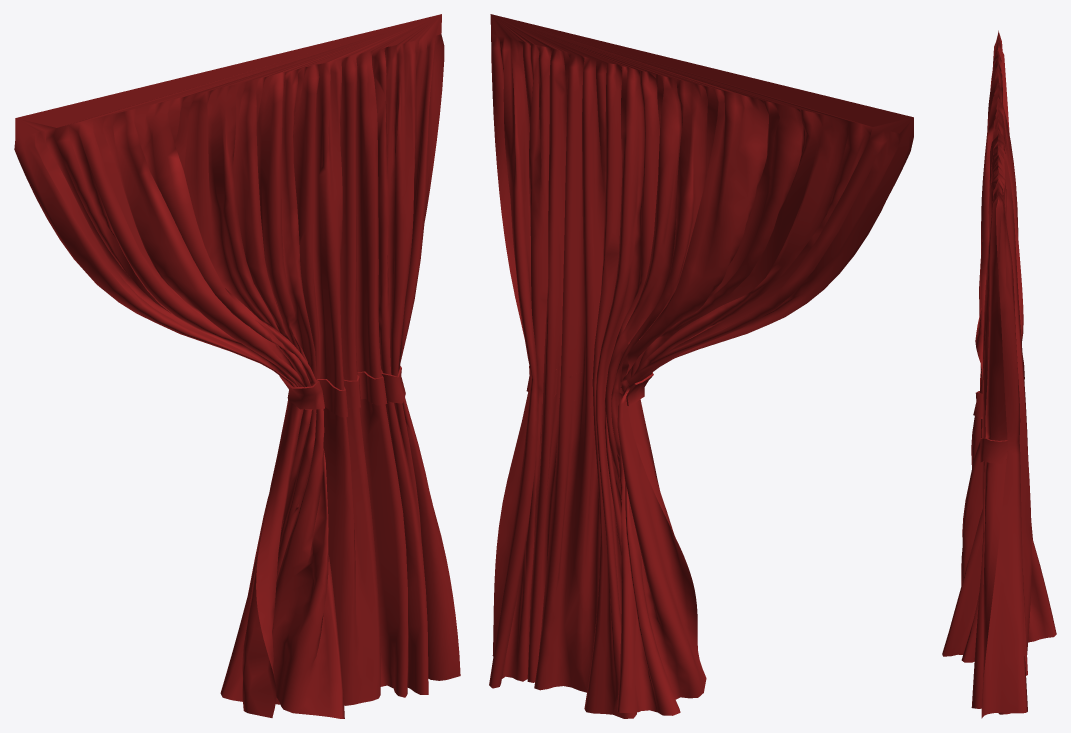
Rendered from curtain-tied.glb.
3 renders of one model, left to right at view 1: azimuth 30°, elevation 25°; view 2: azimuth 150°, elevation 25°; view 3: azimuth 270°, elevation 25°, orthographic. The views are drawn at different scales.
Size of the model in its own units: 1.74 by 2.54 by 0.4879.
